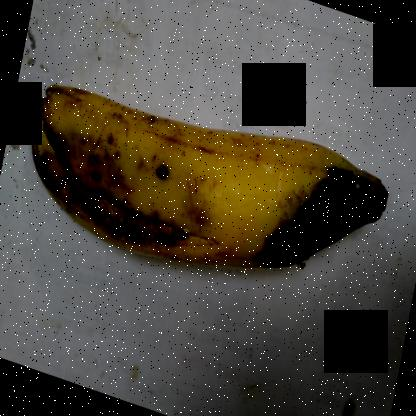rotten: (36, 99, 218, 262), (250, 115, 389, 259)
